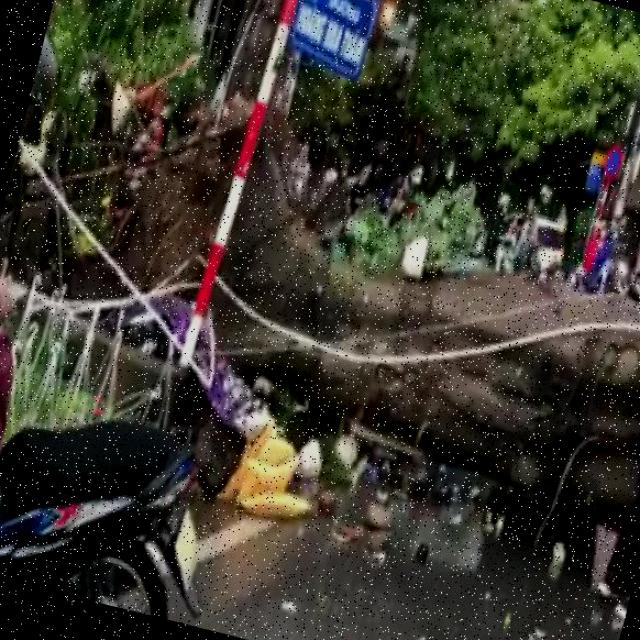fallen_object: (34, 51, 640, 550)
